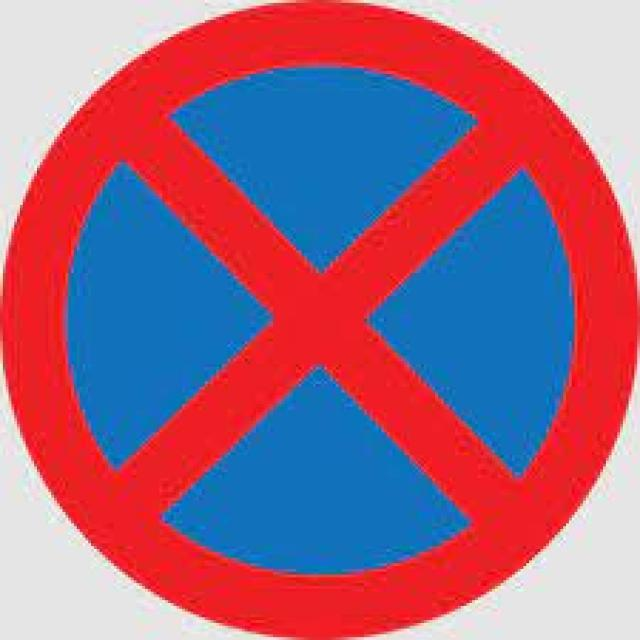no stopping or standing: (16, 18, 615, 619)
